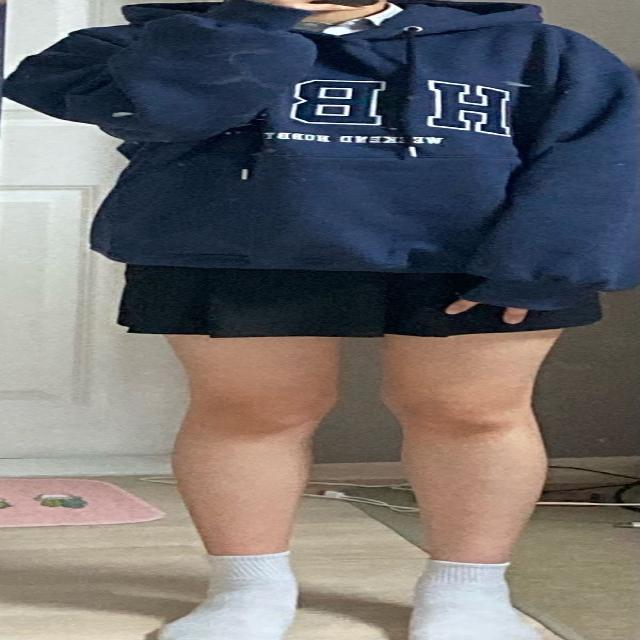hoodies: (10, 0, 640, 315)
skirt: (113, 256, 599, 338)
